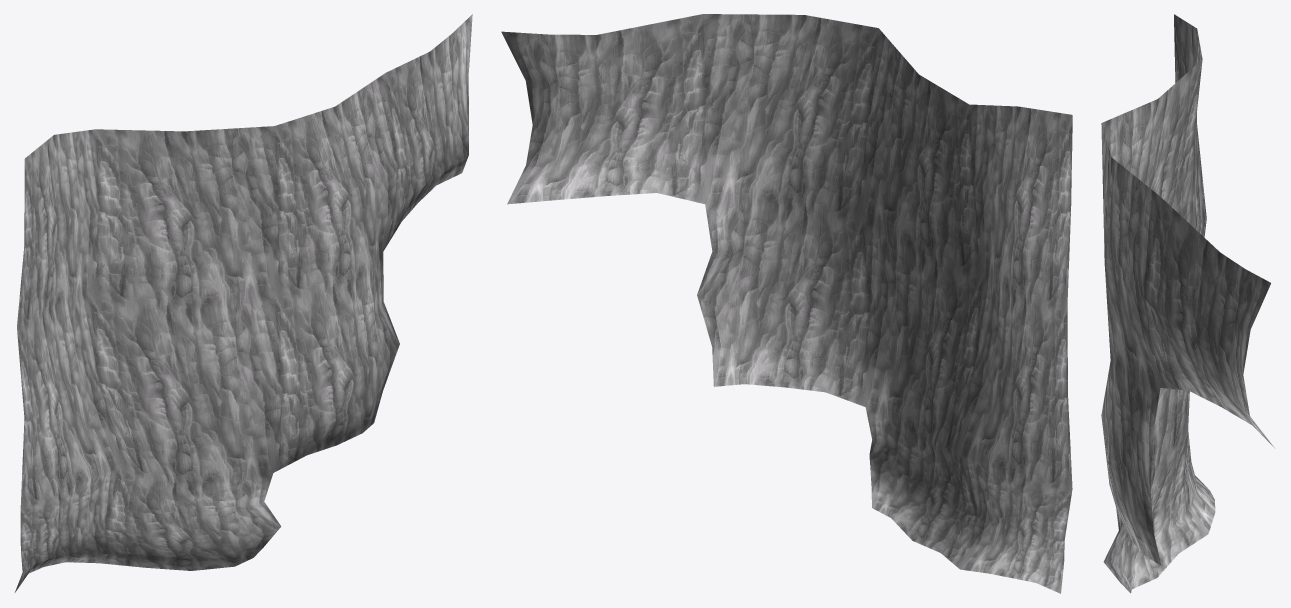
Rendered from SWORDLIGHT20_PS-AREA03_168.fbx.
3 views of the same model, side by side, from view 1: azimuth 30°, elevation 25°; view 2: azimuth 150°, elevation 25°; view 3: azimuth 270°, elevation 25° (orthographic). The views are drawn at different scales.
Visible parts, largest first — view 1: SWORDLIGHT20_PS-AREA03_168; view 2: SWORDLIGHT20_PS-AREA03_168; view 3: SWORDLIGHT20_PS-AREA03_168.
Boxes of the visible parts, box(x1,y1,x2,y2) form: SWORDLIGHT20_PS-AREA03_168: box(15, 14, 472, 592); SWORDLIGHT20_PS-AREA03_168: box(501, 14, 1072, 593); SWORDLIGHT20_PS-AREA03_168: box(1101, 14, 1275, 593).
Size of the model in its own units: 290045 by 252825 by 82434.
1 material, 1 textured.
